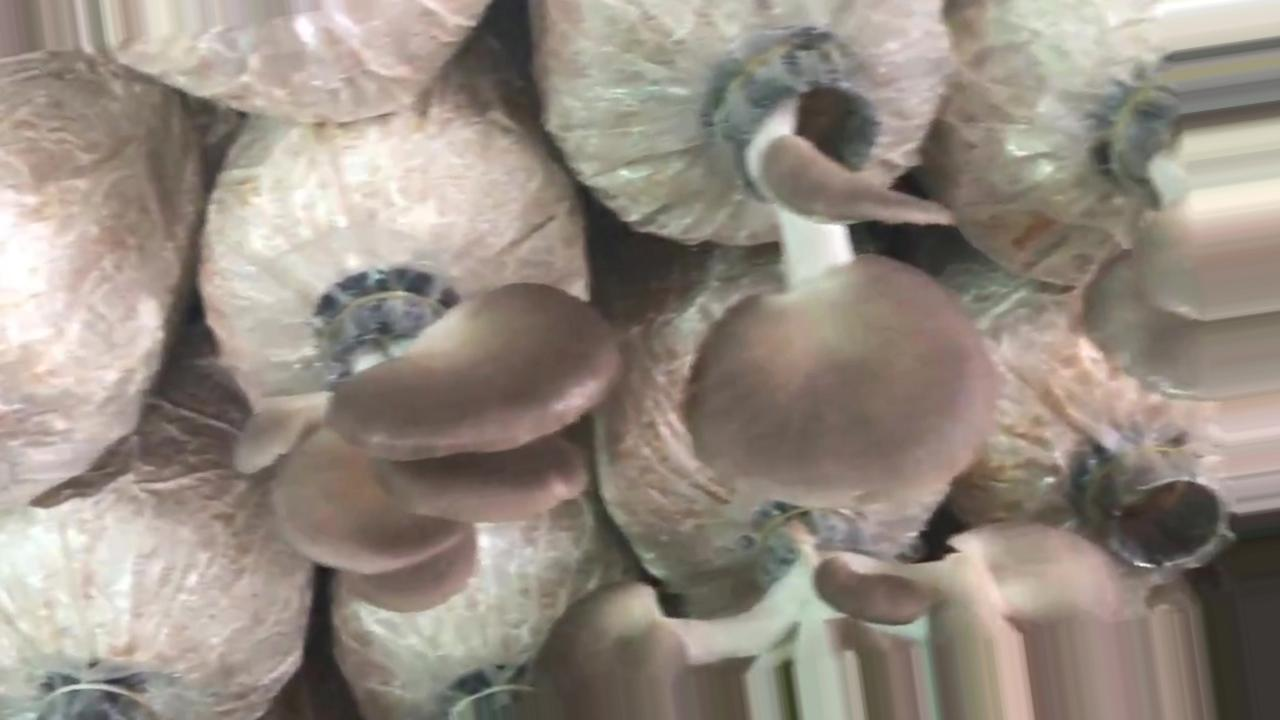nam: (681, 32, 1002, 517), (231, 262, 620, 618), (528, 525, 1211, 720), (1084, 68, 1280, 407)
